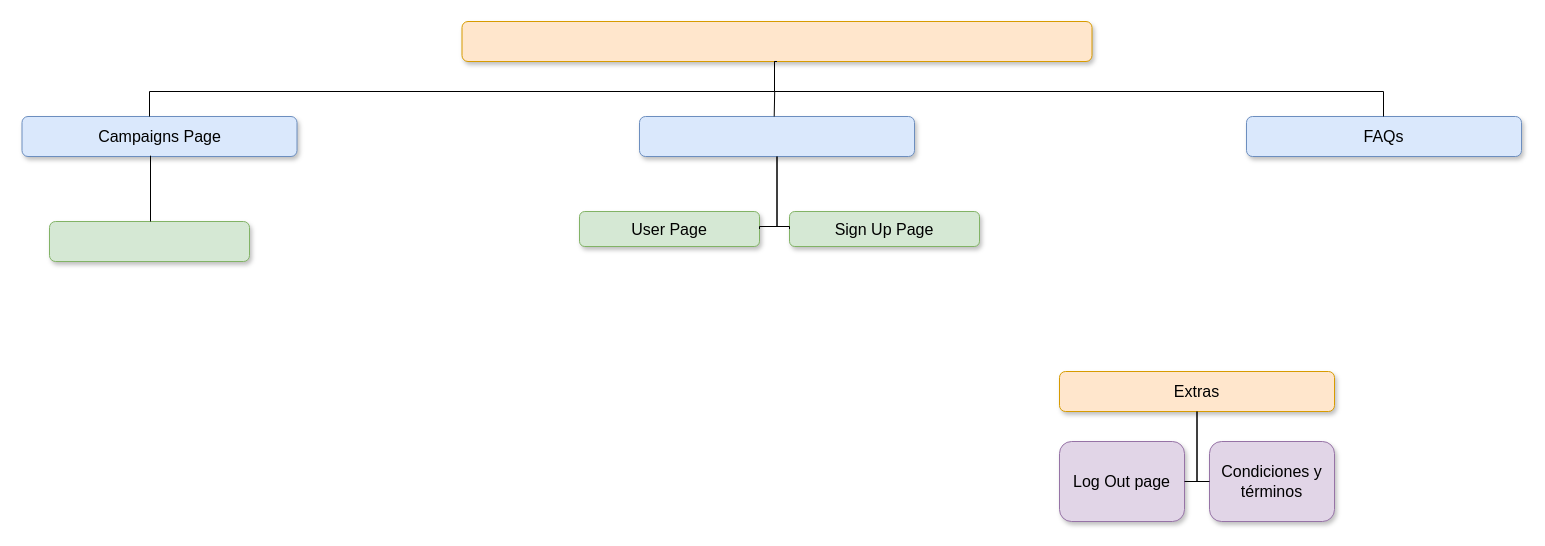
This 1545x546 diagram has some shape labels left out. The shapes that lost their labels are listed below. From the top down, each one's centre as x and y in pixels, then its label:
At [777,42]: "Home Page".
At [777,138]: "Login Page".
At [150,242]: "Donations Page".
